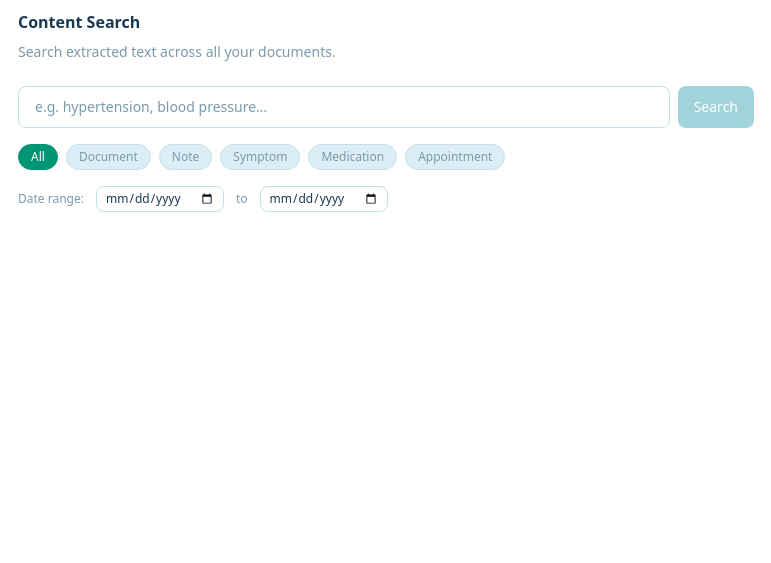
Test: ContentSearchPage › shows summary bar with result count
The width and height of the screenshot is (771, 563).
Type "hypertension" into the search field with test id "content-search-input" at (344,107), box top-left (18, 86), bottom-right (670, 128)
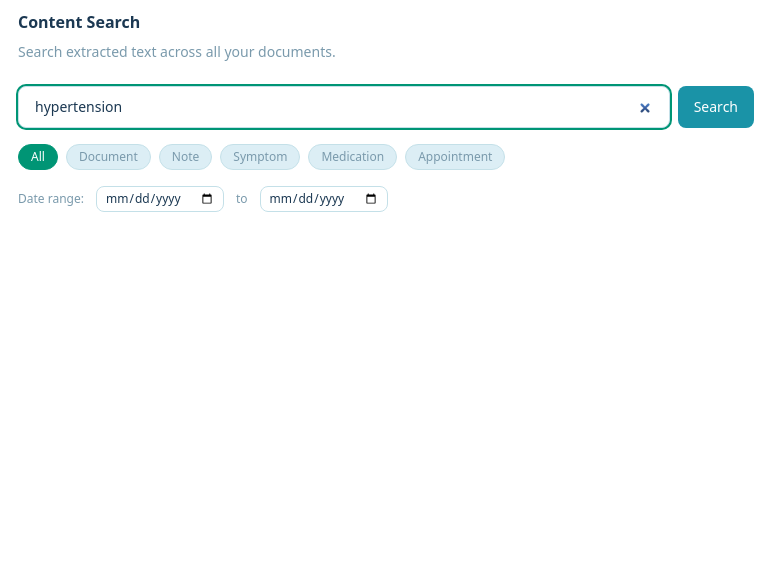
Press Enter
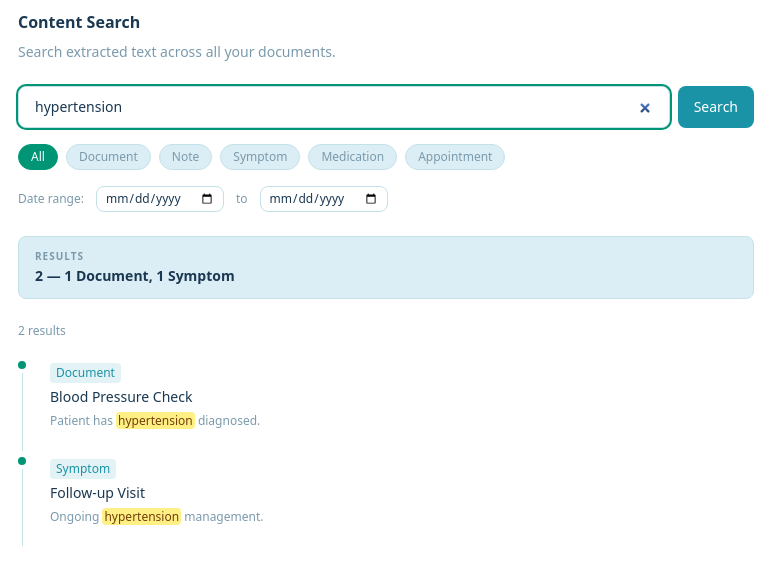
Expected: the element with test id "summary-bar" is shown, top-left (18, 236), bottom-right (754, 299)
Expected: the element with test id "summary-bar" shows "2", top-left (35, 266), bottom-right (43, 285)
